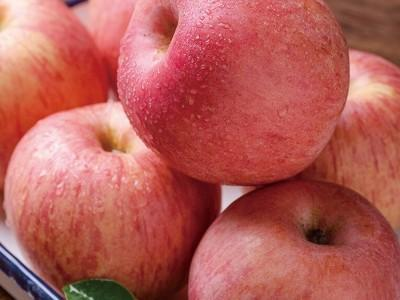apple: (114, 1, 351, 186), (3, 101, 222, 298), (186, 182, 399, 300), (302, 47, 400, 228), (1, 3, 108, 162)
